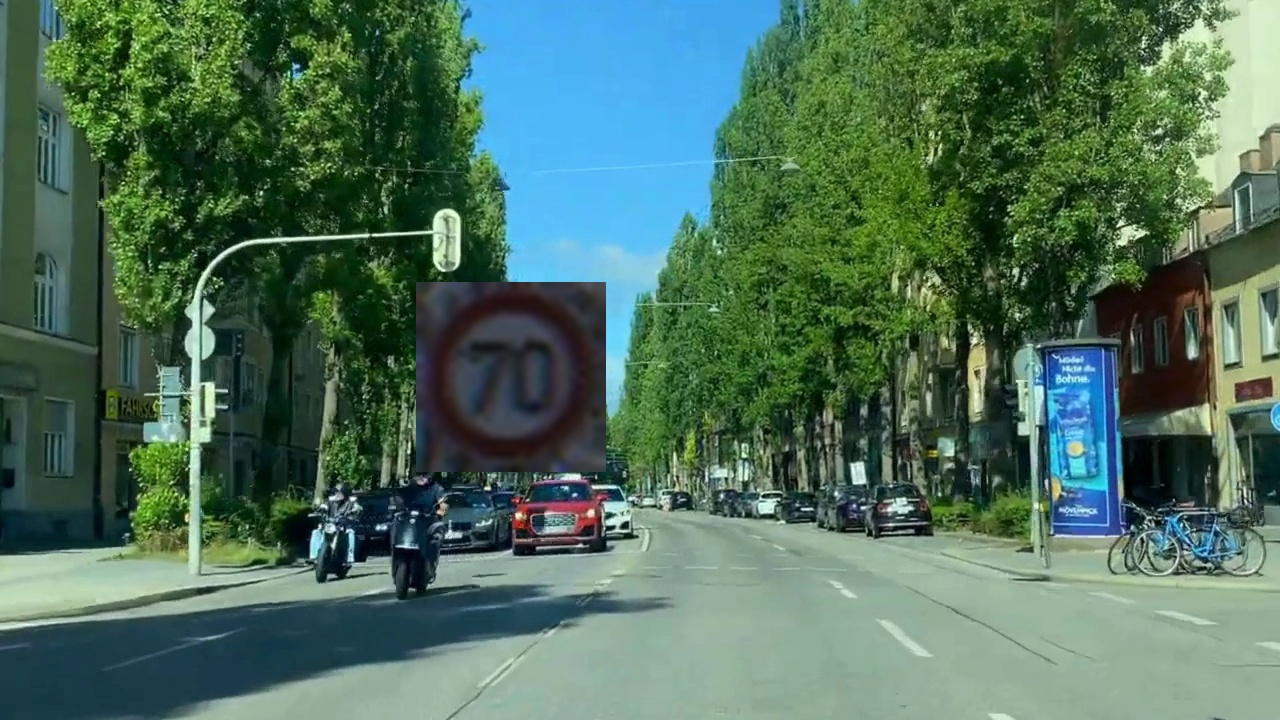Speed 70: (416, 282, 606, 472)
